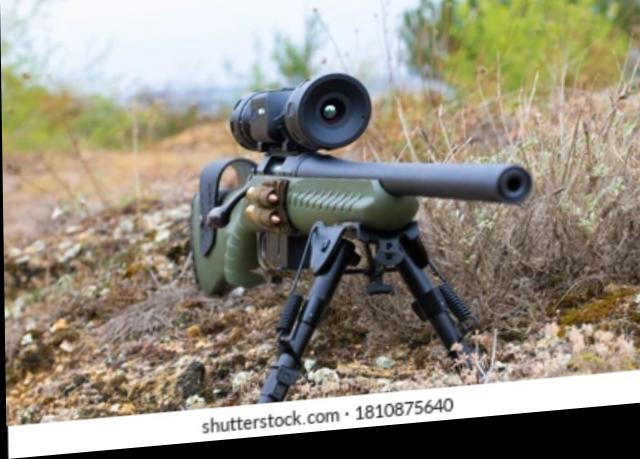other: (178, 140, 301, 300)
